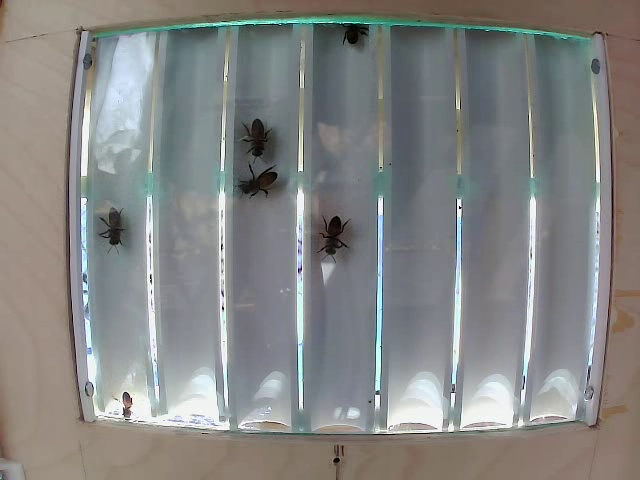bee: (316, 205, 364, 277), (232, 158, 280, 209), (93, 199, 133, 257), (235, 111, 278, 159)
